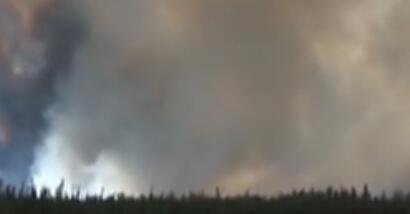smoke: (12, 1, 409, 190)
